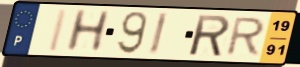9: (114, 10, 150, 56)
H: (62, 9, 113, 54)
I: (45, 7, 71, 53), (146, 11, 170, 57)
R: (188, 13, 232, 58), (223, 16, 268, 58)
